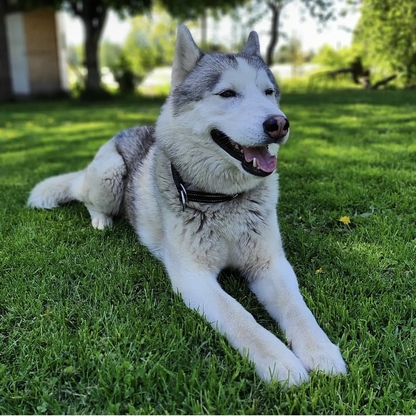husky: (19, 19, 352, 396)
